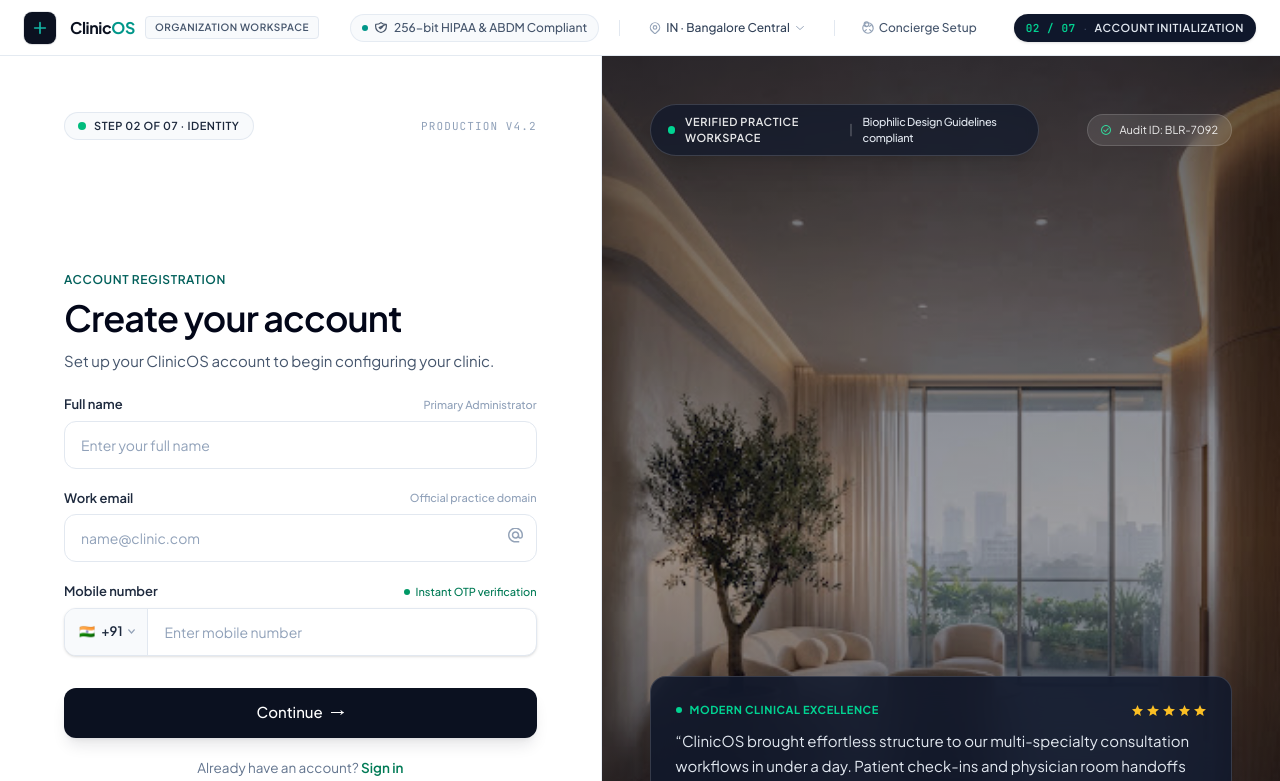
Test: create account page › shows validation errors and stays on the page when the form is empty
Click the button "Continue". click: [300, 712]
box: [64,688,537,738]
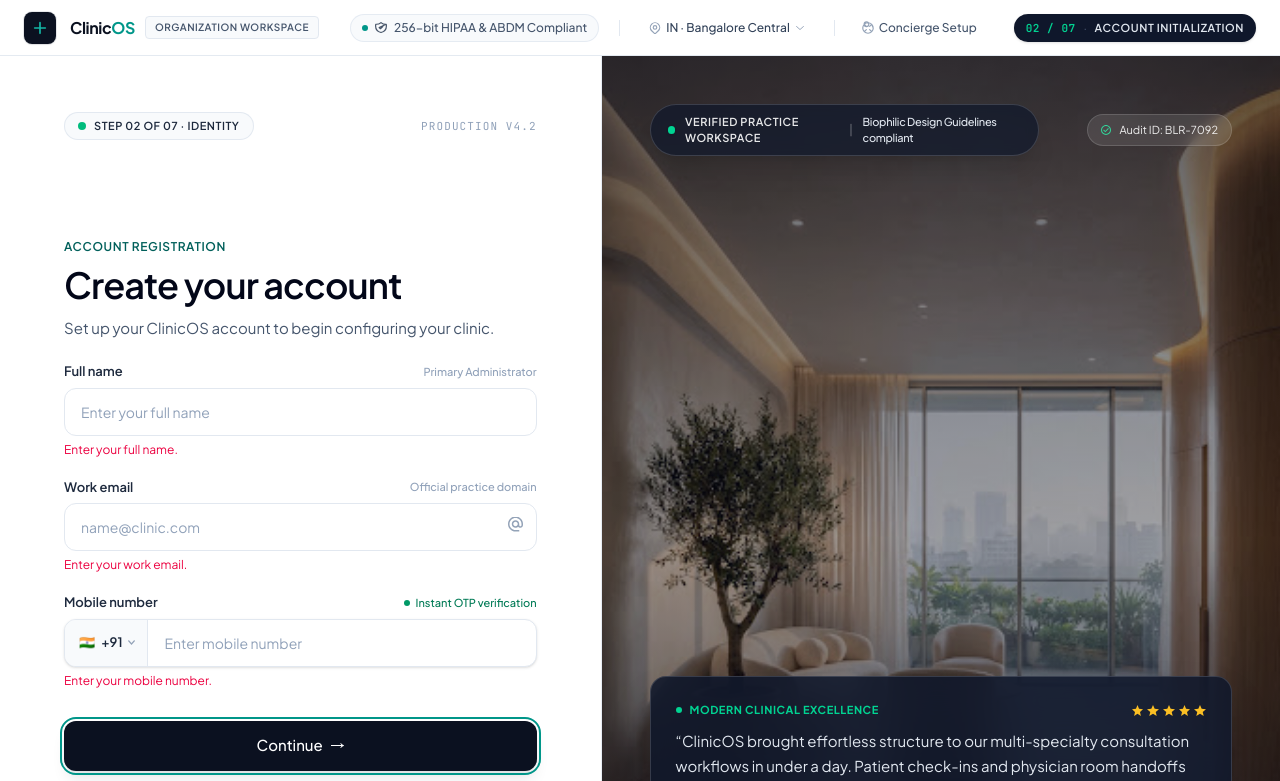
Expected: the text "Enter your full name." is shown, [64,442,178,456]
Expected: the text "Enter your work email." is shown, [64,557,187,572]
Expected: the text "Enter your mobile number." is shown, [64,672,212,688]
